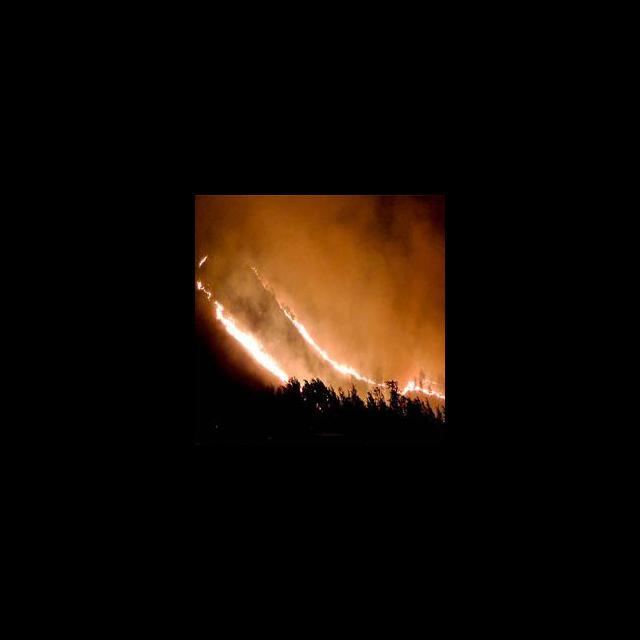Fire: (276, 296, 444, 399), (195, 251, 291, 386)
